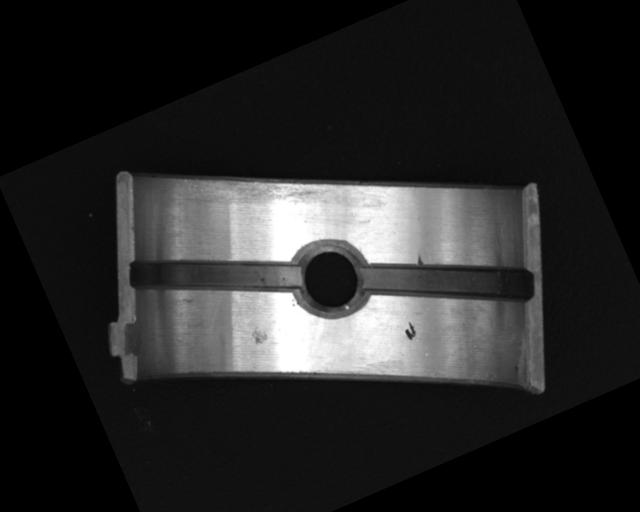blot: (399, 318, 419, 343)
bruise: (249, 323, 270, 346), (412, 252, 425, 267)
gap: (357, 209, 535, 355), (125, 202, 303, 343)
hole: (282, 228, 378, 328)
scratch: (165, 119, 343, 255)
